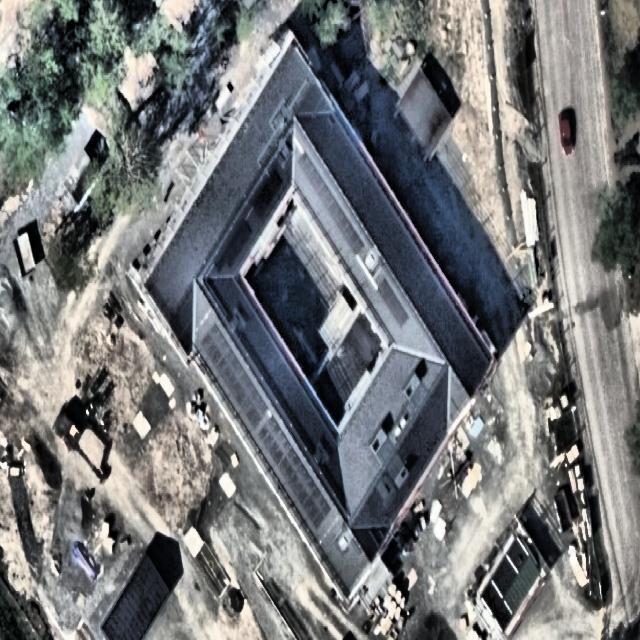roof_pv: (287, 458, 333, 536), (223, 368, 269, 431), (256, 413, 296, 484), (324, 192, 364, 255), (194, 325, 240, 378), (376, 272, 408, 336), (297, 152, 331, 201)
